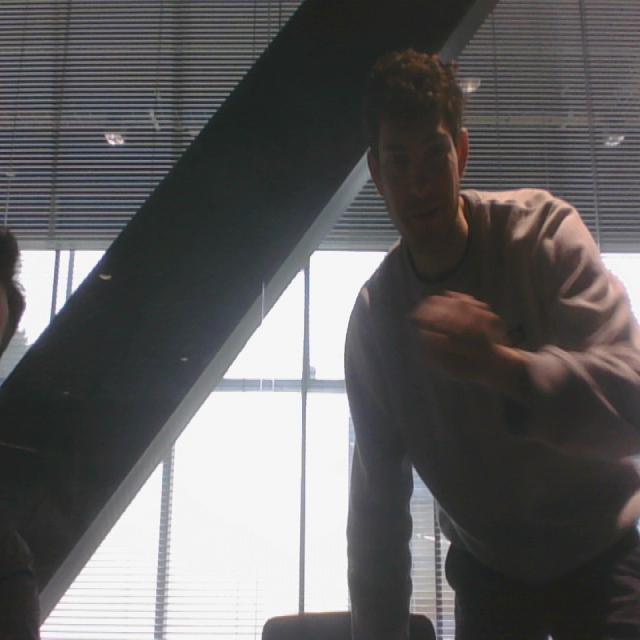stop: (406, 277, 524, 395)
